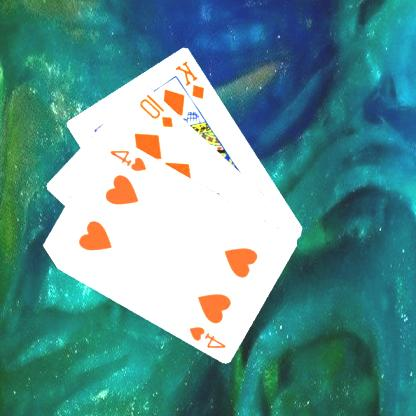10D: (138, 91, 177, 129)
4H: (188, 322, 230, 350), (108, 146, 150, 172)
KD: (174, 57, 208, 101)
